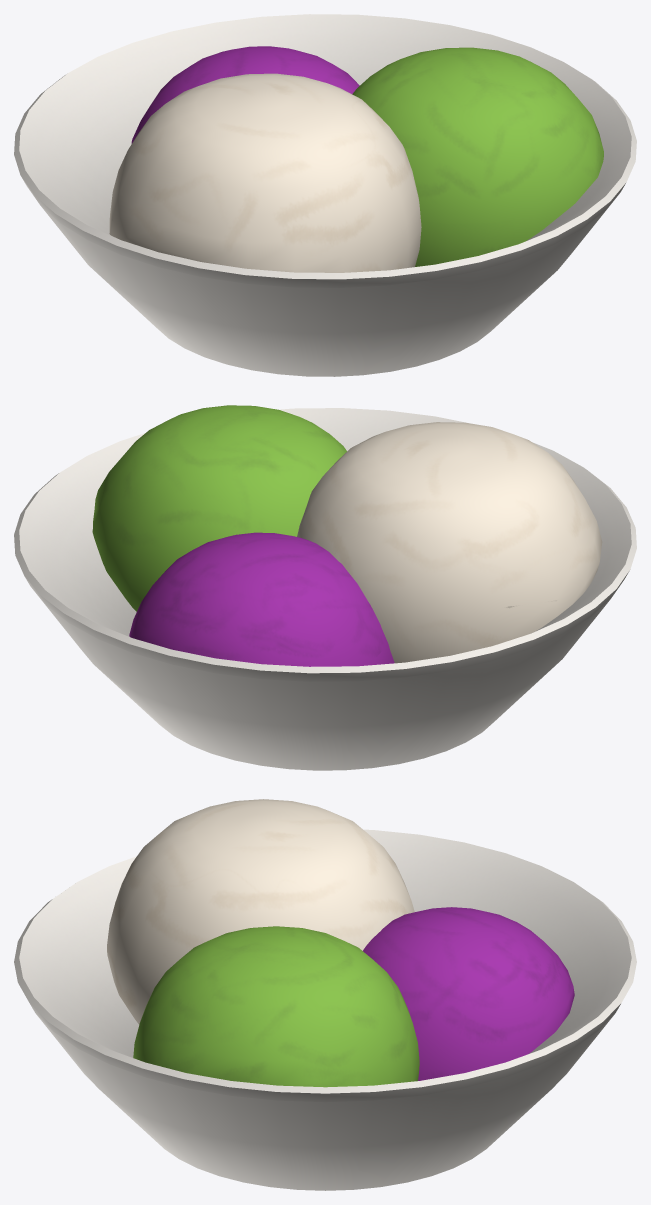
File: iceCream.fbx
The picture shows the model from 3 angles, top to bottom: view 1: azimuth 30°, elevation 25°; view 2: azimuth 150°, elevation 25°; view 3: azimuth 270°, elevation 25°; orthographic projection.
Visible parts, largest first — view 1: bingqilin; view 2: bingqilin; view 3: bingqilin.
Part boxes in pixels (left/top/right/bottom): bingqilin: left=14, top=14, right=636, bottom=376; bingqilin: left=14, top=405, right=636, bottom=770; bingqilin: left=14, top=799, right=636, bottom=1190.
Bounding box in the file's own units: 0.252 × 0.1113 × 0.252.
